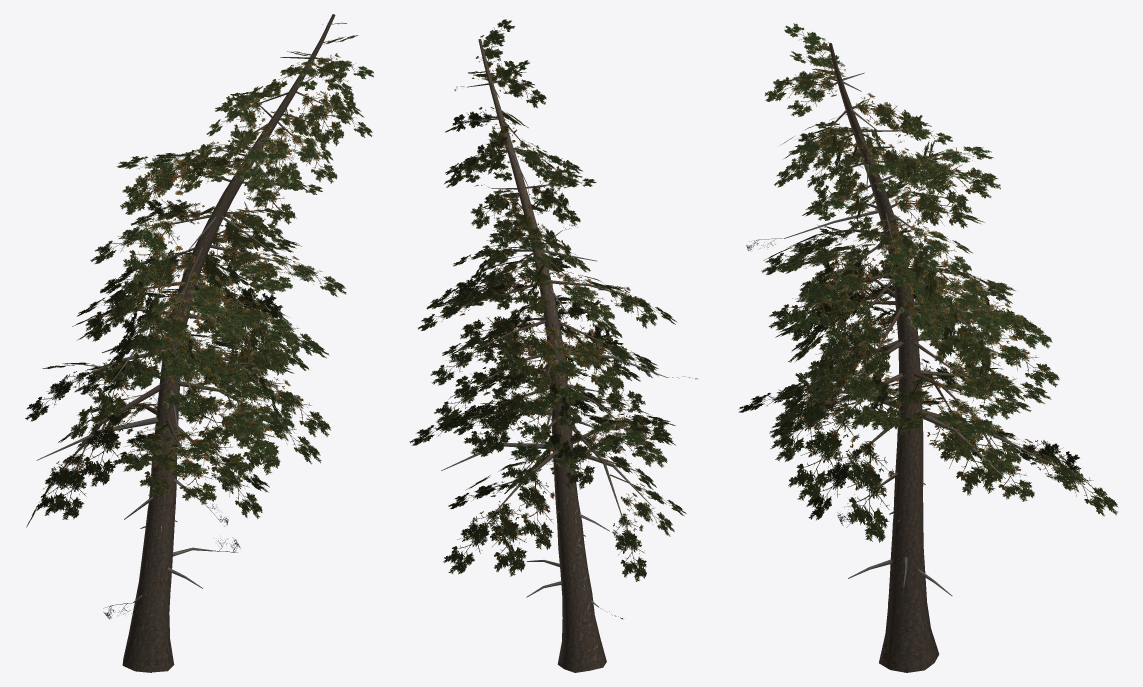
File: tree_v6_pine_mangy_lean_autumn.glb
3 views of the same model, side by side, from view 1: azimuth 30°, elevation 25°; view 2: azimuth 150°, elevation 25°; view 3: azimuth 270°, elevation 25° (orthographic). The views are drawn at different scales.
Parts seen in each view (by area): view 1: tree_v6_pine_mangy_lean_autumn_LOD0; view 2: tree_v6_pine_mangy_lean_autumn_LOD0; view 3: tree_v6_pine_mangy_lean_autumn_LOD0.
Boxes of the visible parts, <box> form: tree_v6_pine_mangy_lean_autumn_LOD0: <box>25,14,373,672</box>; tree_v6_pine_mangy_lean_autumn_LOD0: <box>409,19,697,672</box>; tree_v6_pine_mangy_lean_autumn_LOD0: <box>738,23,1118,672</box>.
Size of what is drawn, in the model's own units: 5.68 by 11.34 by 5.81.
1 material, 1 textured.
